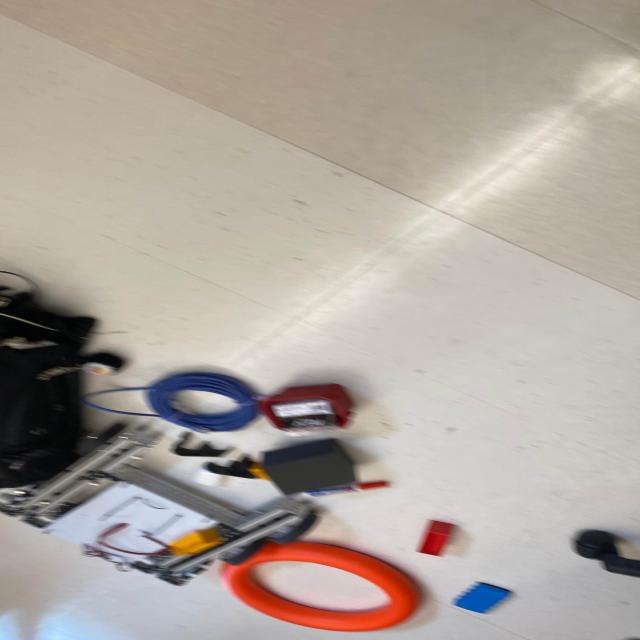red-specimen: (416, 520, 458, 557)
yellow-specimen: (167, 528, 223, 556), (247, 462, 271, 481)
